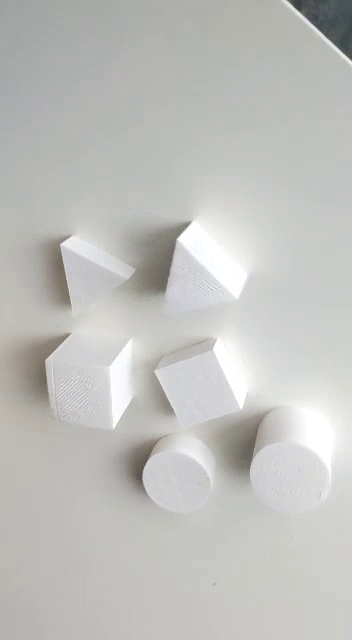Clyinder_short: (135, 428, 217, 516)
Cube: (40, 330, 135, 428)
Cube_short: (149, 335, 254, 429)
Cylinder: (244, 402, 340, 518)
Triangle: (157, 219, 255, 317)
Triangle_short: (52, 233, 137, 317)
